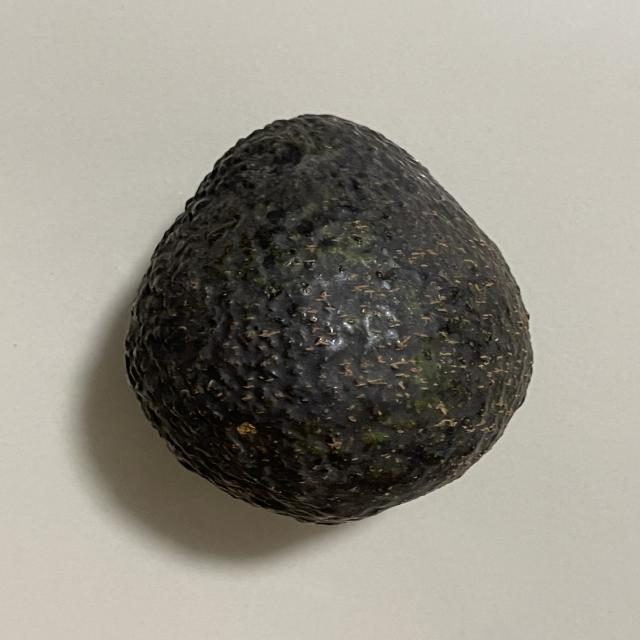Level2: (117, 105, 540, 529)
